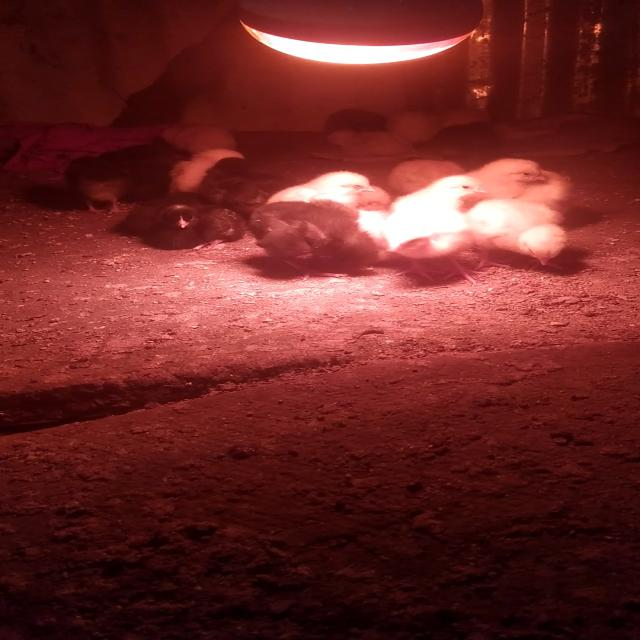chick: (250, 201, 378, 278), (380, 205, 486, 284), (468, 198, 565, 272), (436, 157, 547, 212), (391, 174, 489, 231), (142, 206, 255, 254), (274, 171, 377, 223), (97, 144, 185, 196), (68, 156, 146, 214), (484, 170, 580, 217), (119, 192, 212, 238), (168, 148, 245, 201), (222, 176, 302, 226), (198, 157, 260, 211), (328, 126, 418, 160), (392, 159, 467, 198), (382, 106, 446, 144), (174, 124, 237, 158)
